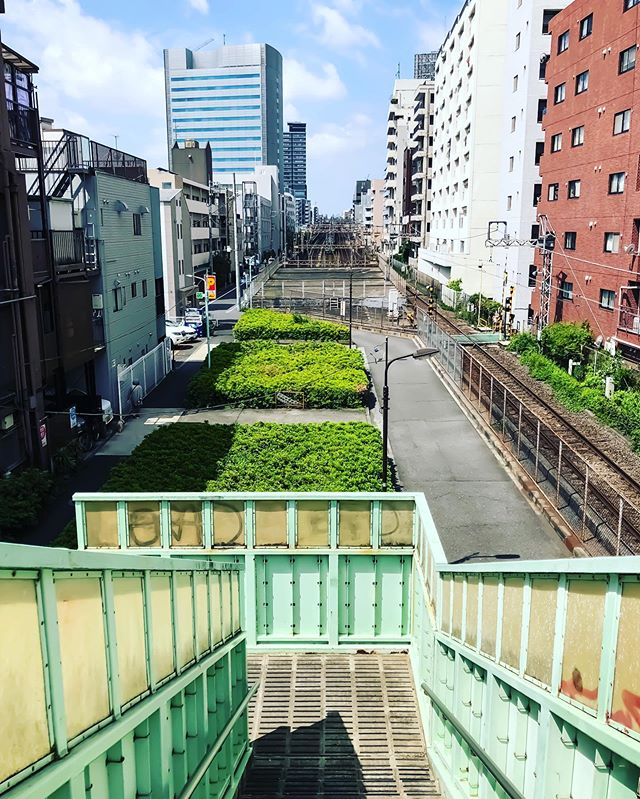building: (1, 42, 102, 488), (412, 1, 544, 307), (530, 1, 640, 343), (155, 36, 282, 253), (83, 141, 172, 419), (371, 69, 434, 270), (161, 164, 228, 327), (285, 119, 315, 221)
sky: (10, 1, 165, 122), (294, 1, 402, 170)
